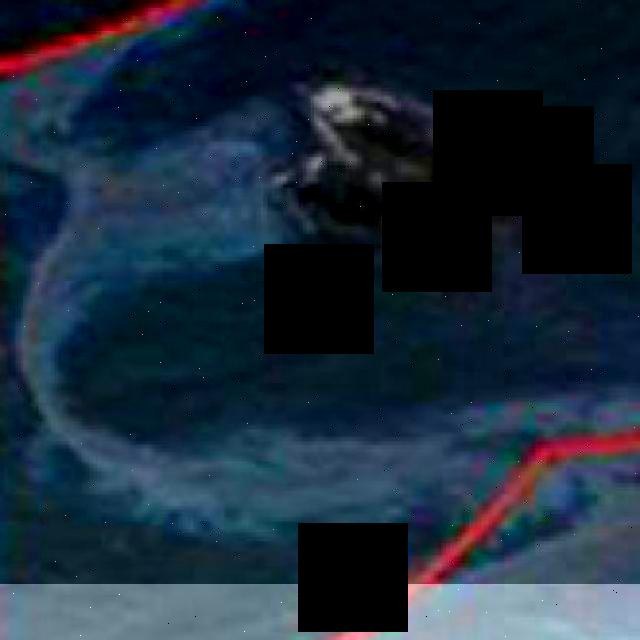oil spill: (0, 0, 640, 584)
